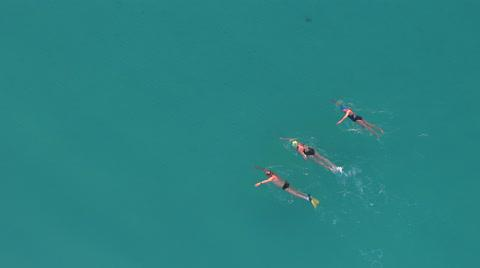human: (253, 164, 318, 205), (280, 134, 340, 172), (330, 99, 384, 138)
